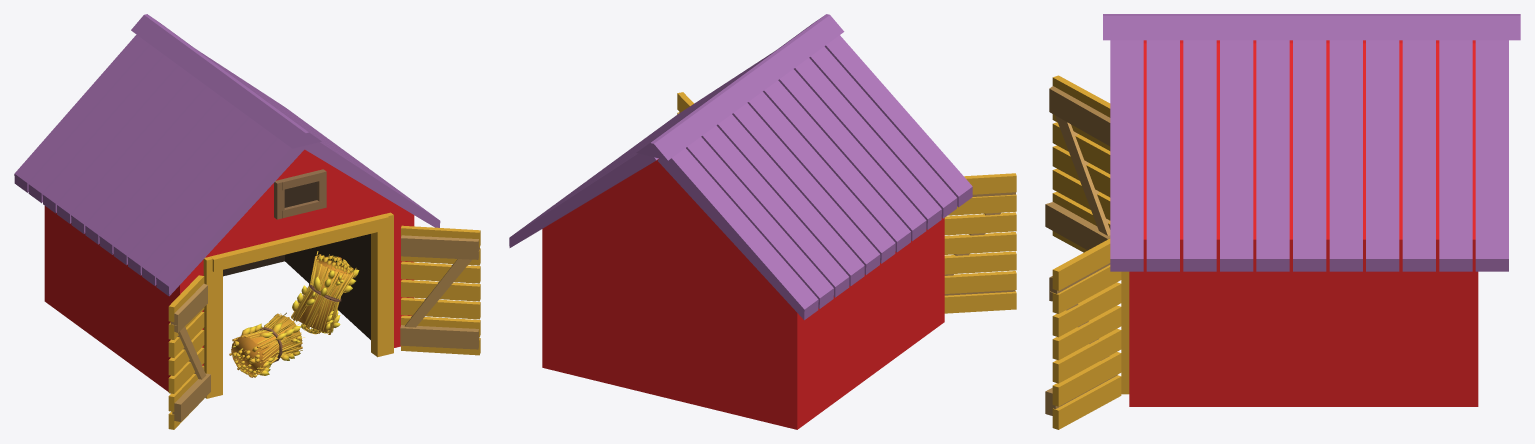
The model's file is Sell House.fbx.
3 renders of one model, left to right at view 1: azimuth 30°, elevation 25°; view 2: azimuth 150°, elevation 25°; view 3: azimuth 270°, elevation 25°, orthographic. The views are drawn at different scales.
Parts seen in each view (by area): view 1: Sell house; view 2: Sell house; view 3: Sell house.
Boxes of the visible parts, x1,y1,x2,y2 form: Sell house: (14, 14, 480, 429); Sell house: (509, 14, 1016, 429); Sell house: (1045, 14, 1520, 429).
Bounding box in the file's own units: 2.66 × 2.04 × 2.72.
